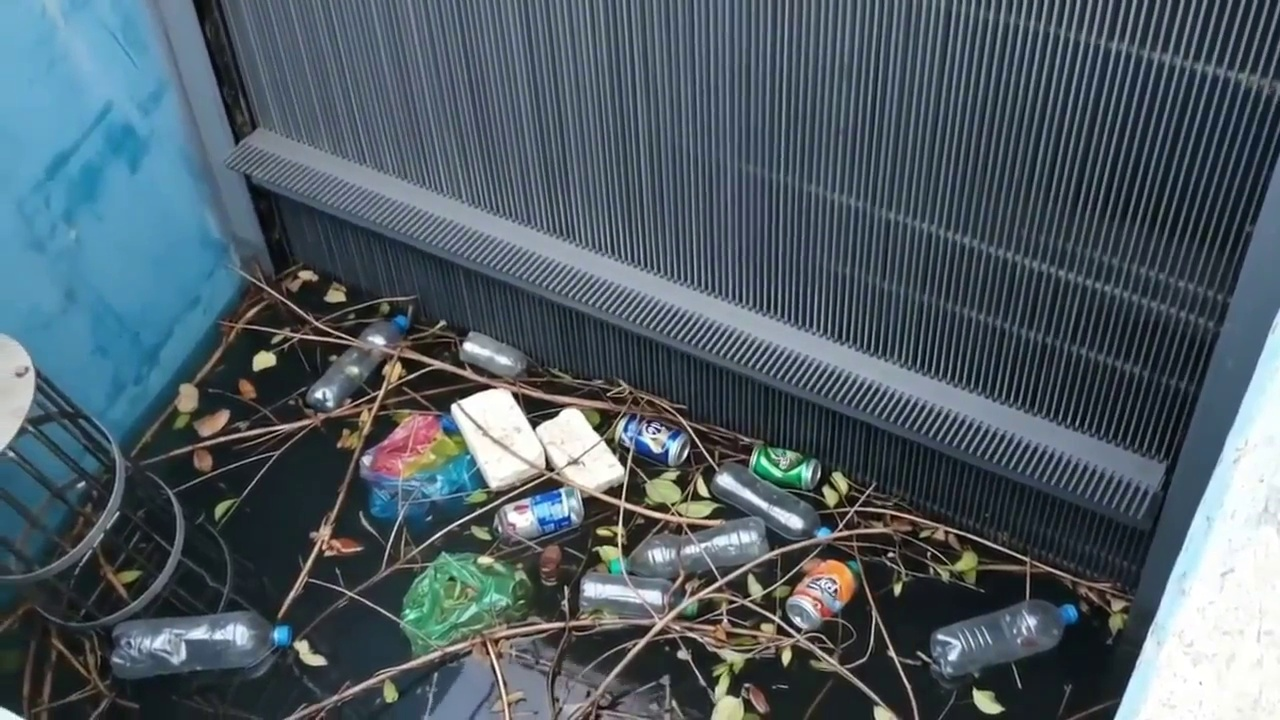debris: (580, 446, 831, 617), (360, 388, 625, 538), (400, 552, 531, 653), (402, 554, 529, 654), (112, 611, 294, 679), (930, 599, 1077, 677), (931, 601, 1078, 676), (307, 316, 407, 409), (785, 561, 859, 630), (616, 416, 690, 466), (644, 471, 718, 518), (462, 333, 526, 377), (192, 408, 230, 437), (538, 544, 562, 585), (174, 383, 199, 413)
